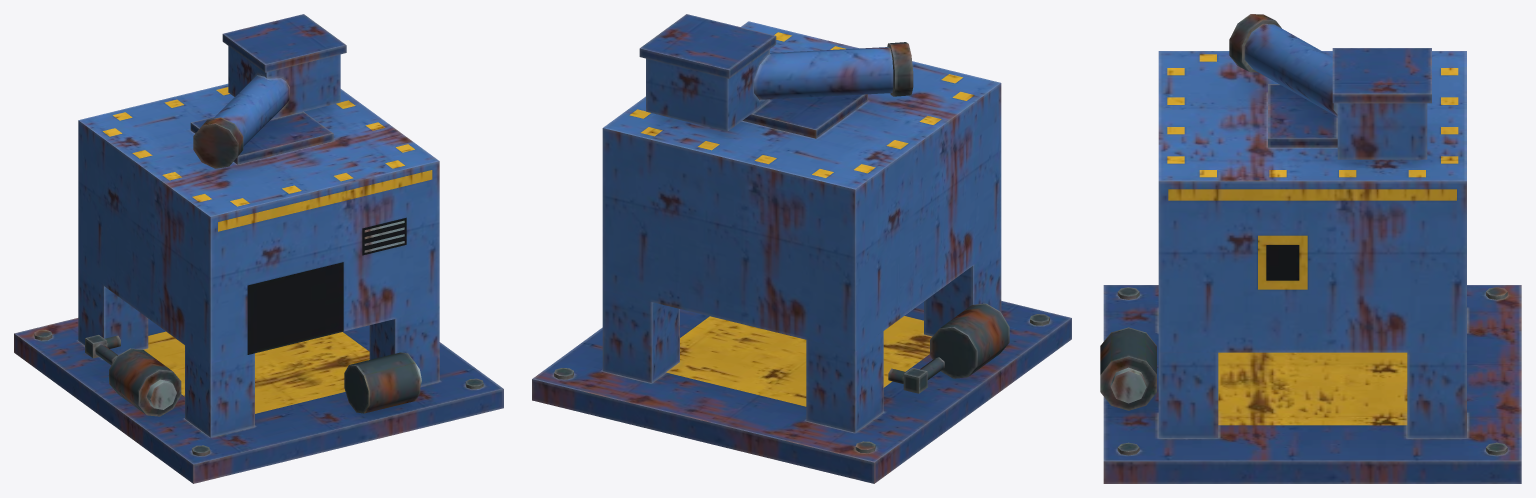
File: collector.glb
3 renders of one model, left to right at view 1: azimuth 30°, elevation 25°; view 2: azimuth 150°, elevation 25°; view 3: azimuth 270°, elevation 25°, orthographic. The views are drawn at different scales.
Visible parts, largest first — view 1: te_collector; view 2: te_collector; view 3: te_collector.
Part boxes in pixels (bbox=[...]): te_collector: bbox=[14, 14, 503, 483]; te_collector: bbox=[532, 14, 1071, 483]; te_collector: bbox=[1100, 14, 1521, 483].
Bounding box in the file's own units: 0.84 × 0.79 × 0.8471.
Materials: 1 (1 with a texture image).
